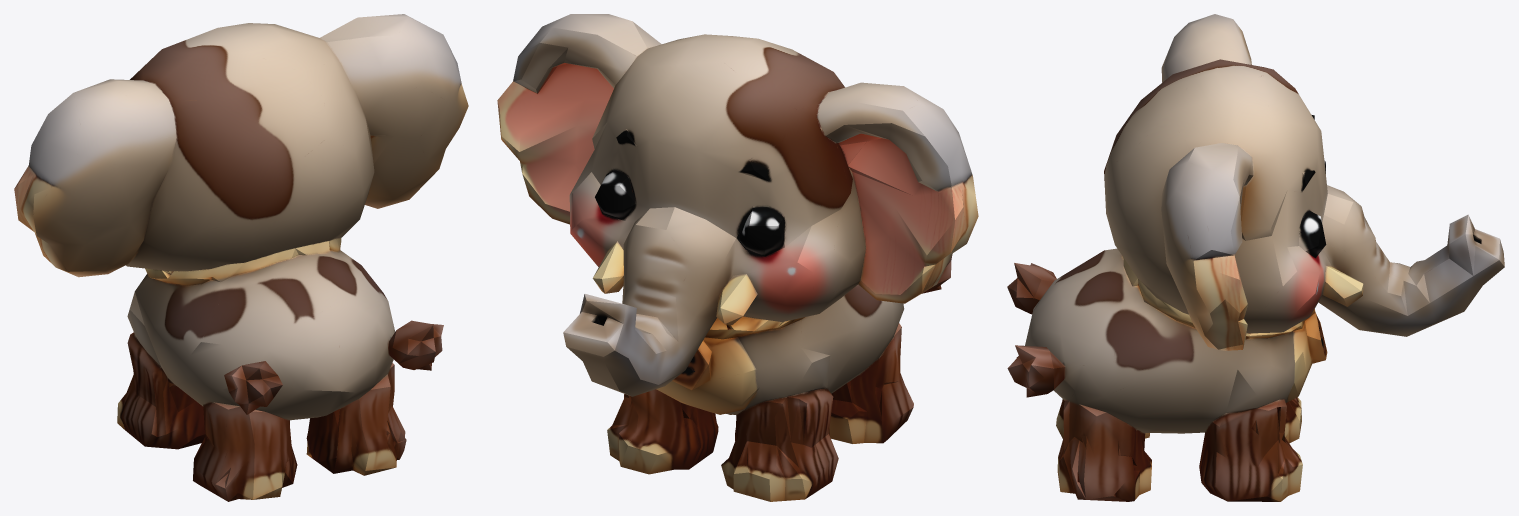
The model's file is elephant_lo.glb.
The picture shows the model from 3 angles, left to right: view 1: azimuth 30°, elevation 25°; view 2: azimuth 150°, elevation 25°; view 3: azimuth 270°, elevation 25°; orthographic projection. The views are drawn at different scales.
Parts seen in each view (by area): view 1: Pet; view 2: Pet; view 3: Pet.
Part boxes in pixels (box(x1,y1,x2,y2)): Pet: box(14, 14, 468, 501); Pet: box(497, 14, 978, 501); Pet: box(1007, 14, 1504, 501).
Bounding box in the file's own units: 0.9918 × 0.8499 × 1.
Materials: 1 (1 with a texture image).
